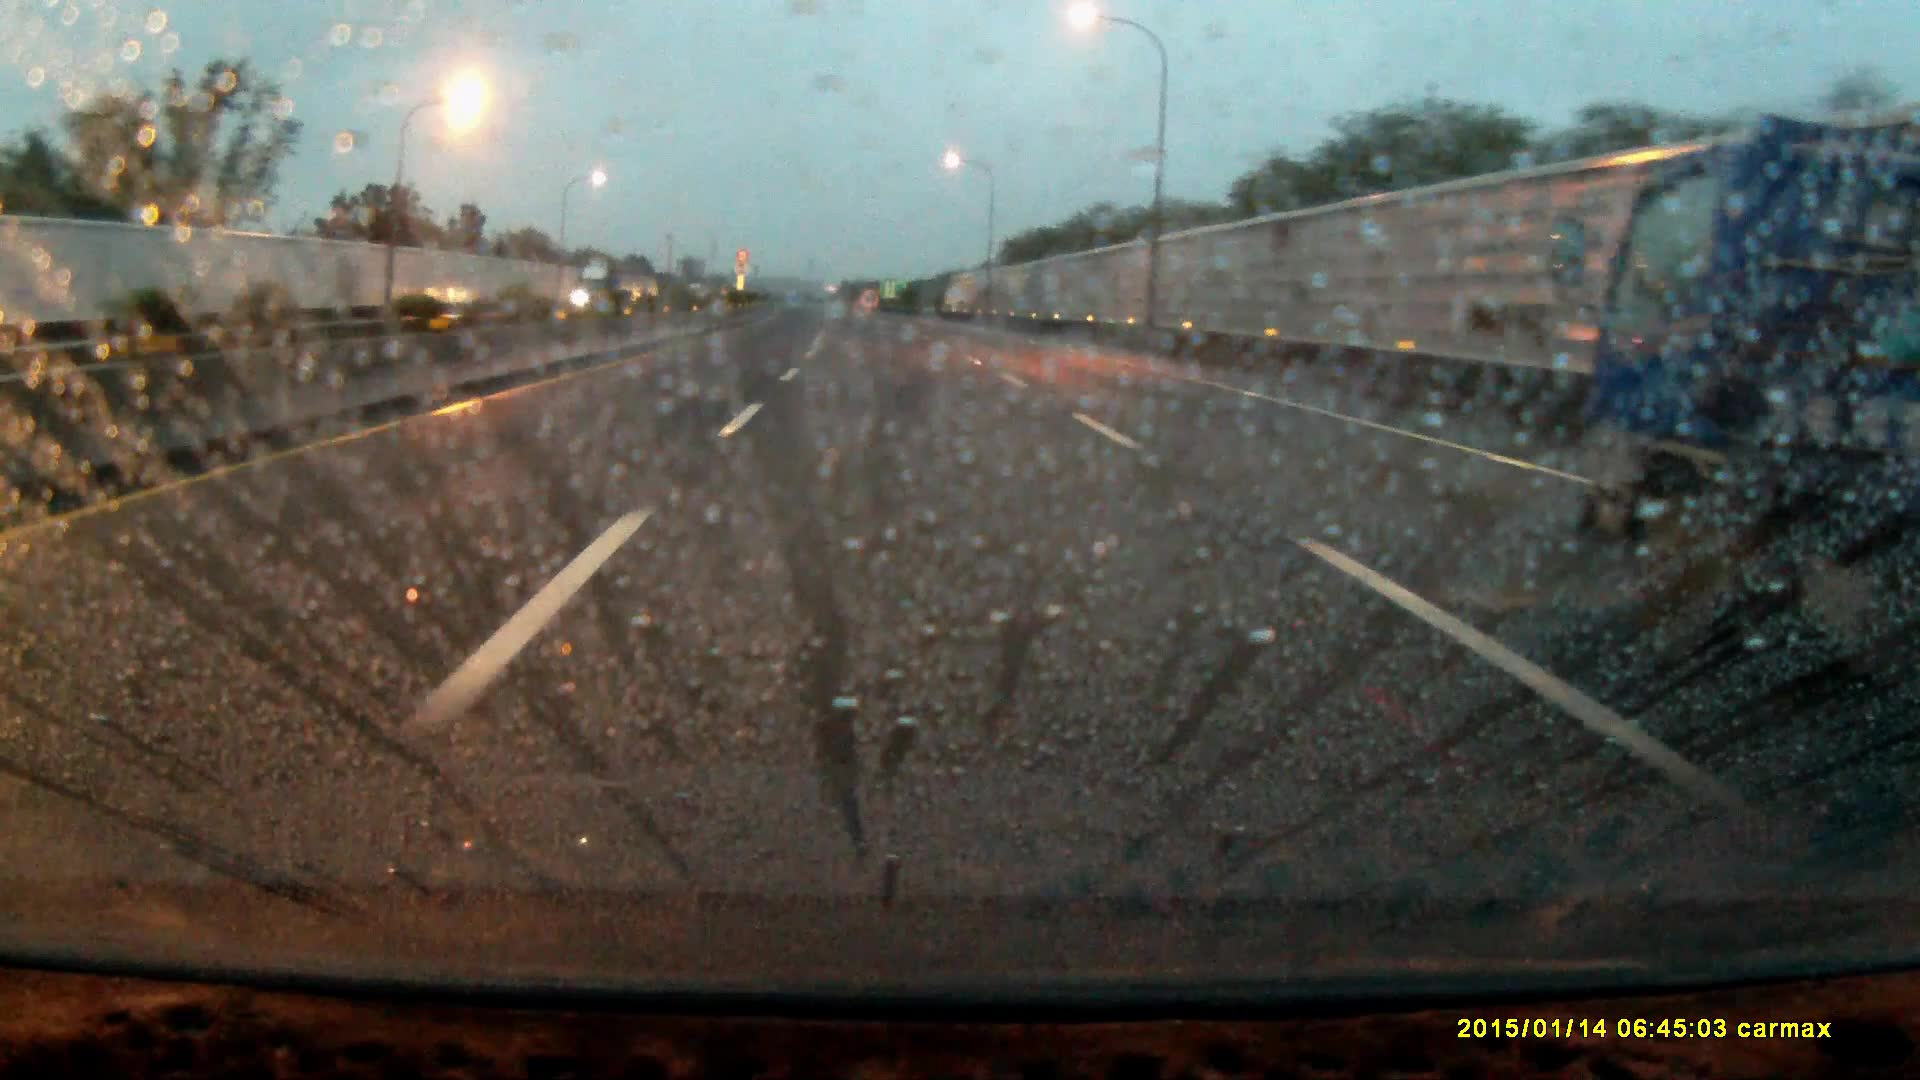vehicle: (1578, 140, 1920, 607), (578, 266, 622, 311)
